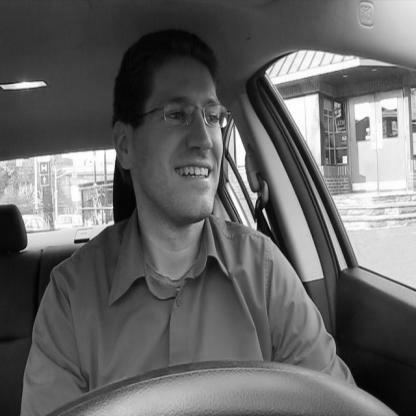no-seatbelt: (106, 13, 266, 364)
